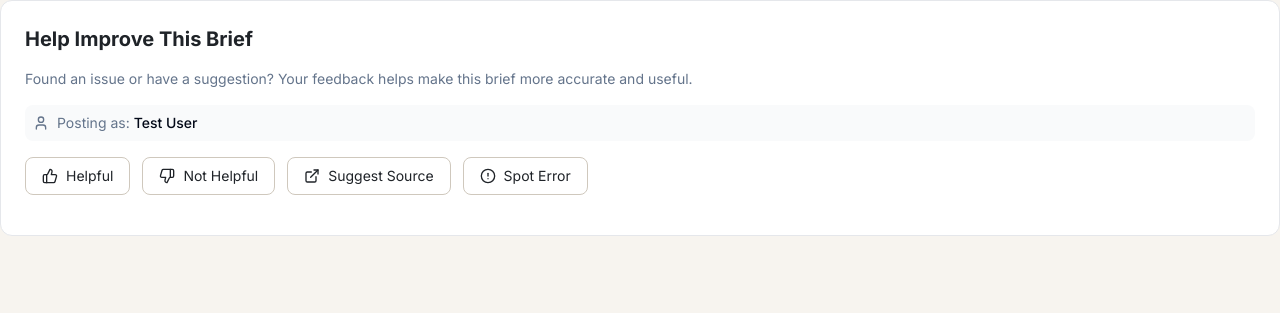
FeedbackForm › Downvote Feedback › should show success message after downvote
Click the button "Not Helpful": (209, 176) x1=142 y1=157 x2=275 y2=195
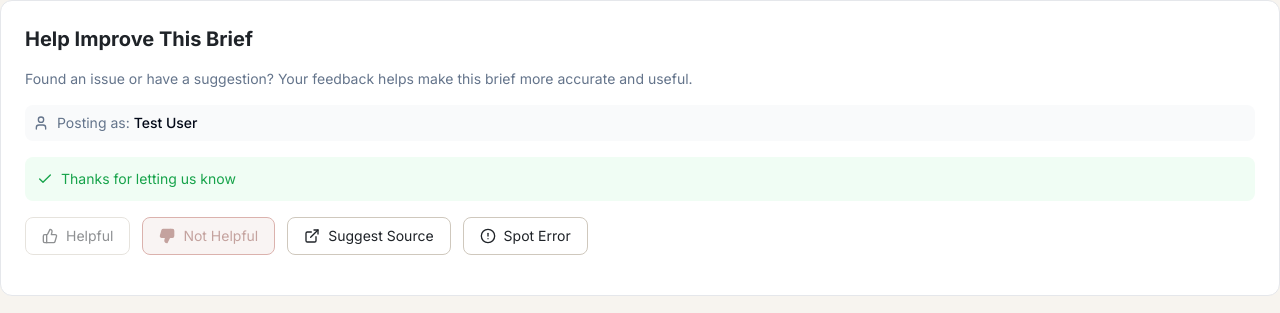
Result: the text "Thanks for letting us know" is shown at x1=25 y1=157 x2=1255 y2=201
